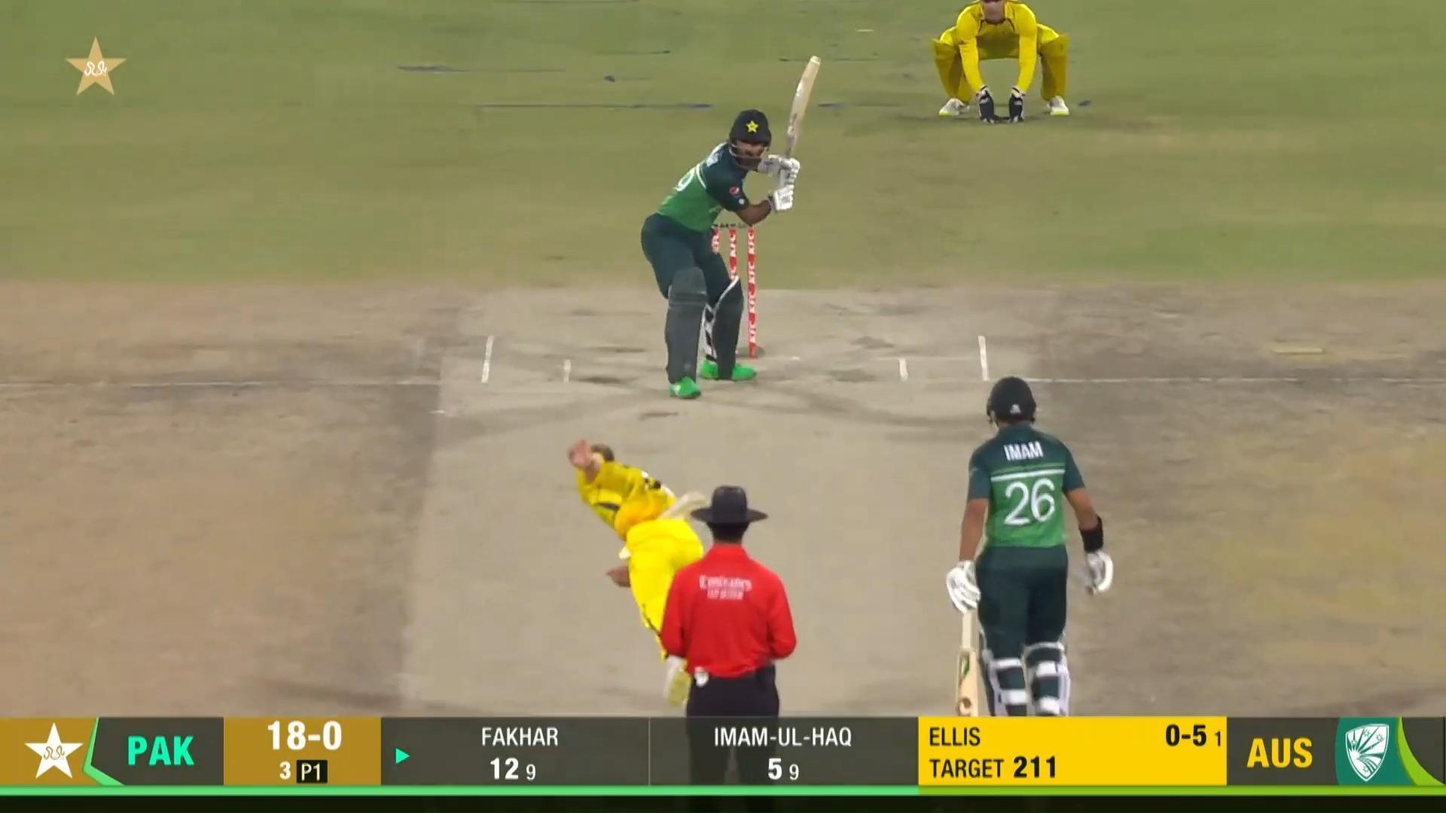BM 1: (640, 54, 823, 400)
BO: (568, 439, 709, 706)
